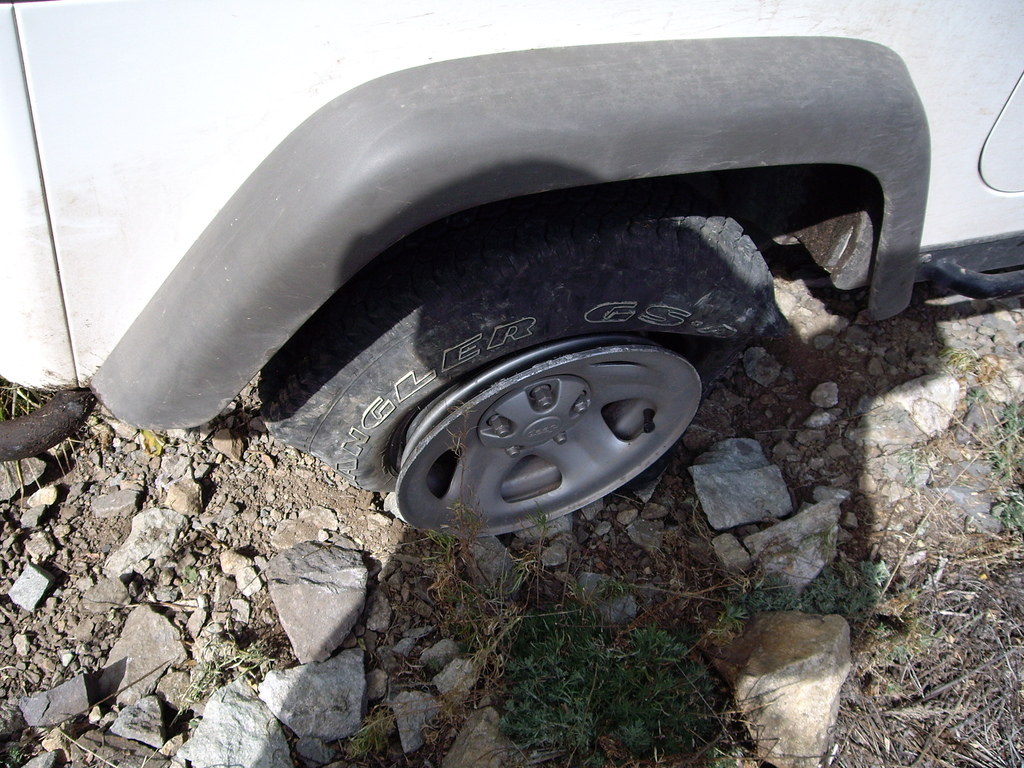Car: (0, 0, 1023, 540)
